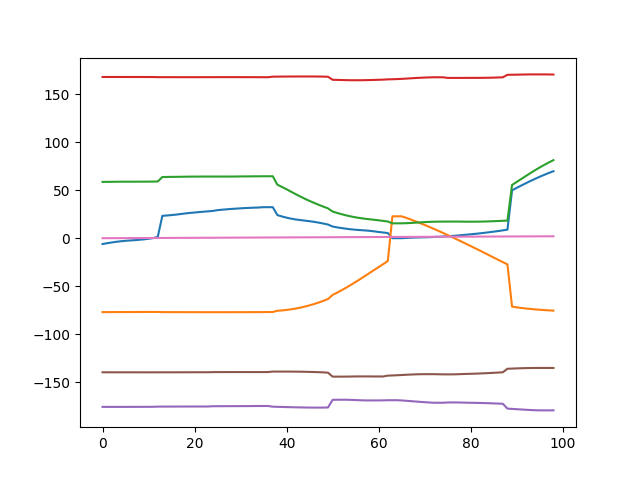Too_Fast_Down: (1, 2, 640, 478)
